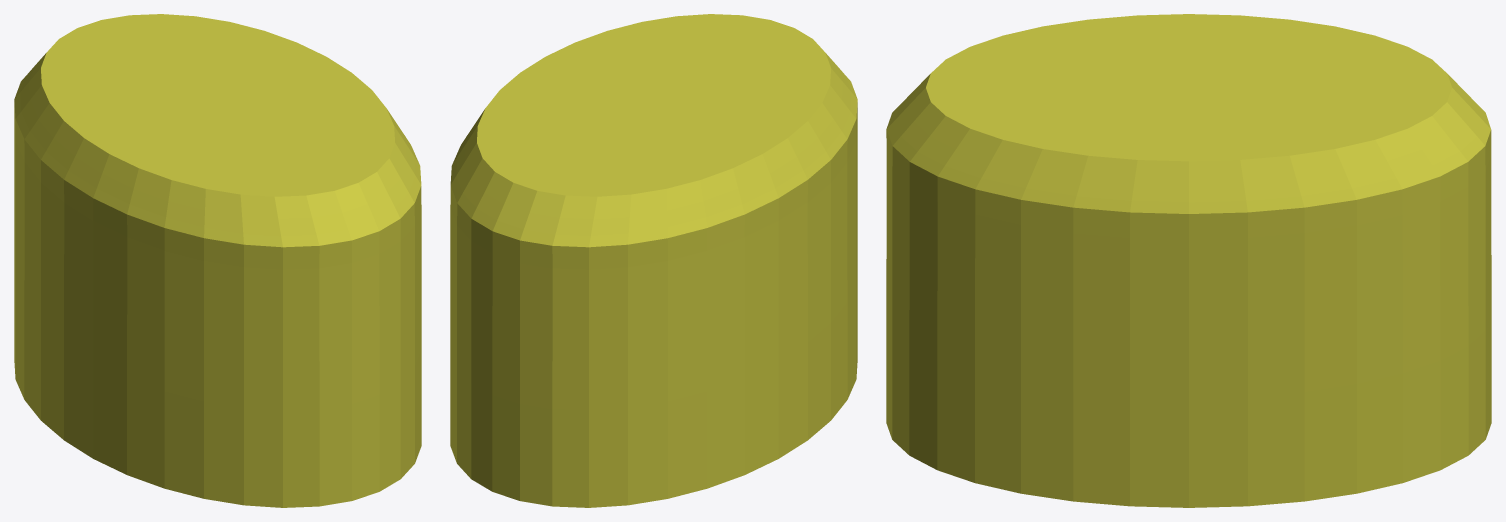
The model's file is Podstawa.obj.
The picture shows the model from 3 angles, left to right: view 1: azimuth 30°, elevation 25°; view 2: azimuth 150°, elevation 25°; view 3: azimuth 270°, elevation 25°; orthographic projection. The views are drawn at different scales.
Parts seen in each view (by area): view 1: Podstawa; view 2: Podstawa; view 3: Podstawa.
Part boxes in pixels (x1,y1,x2,y2): Podstawa: (14, 14, 421, 507); Podstawa: (450, 14, 857, 507); Podstawa: (886, 14, 1491, 507).
Bounding box in the file's own units: 2 × 1.85 × 3.02.
